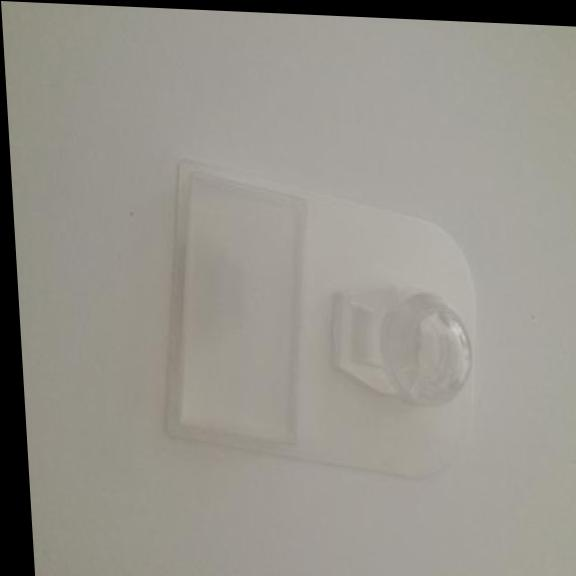Plastik: (145, 150, 489, 496)
